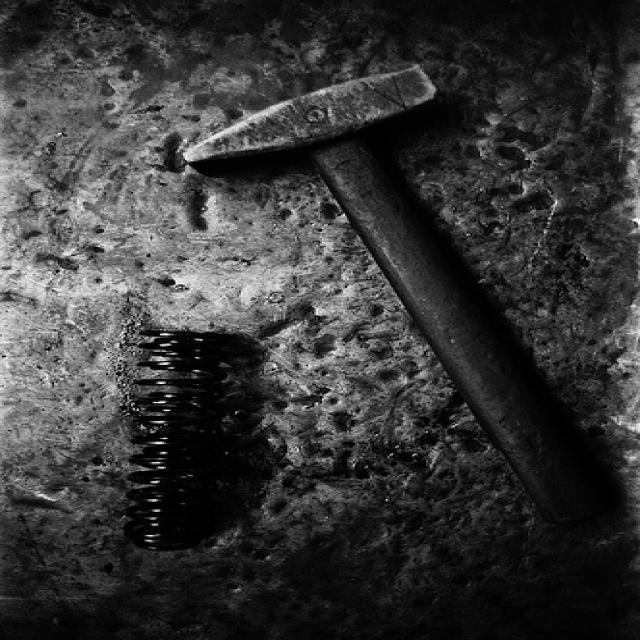hammer: (166, 25, 590, 369)
